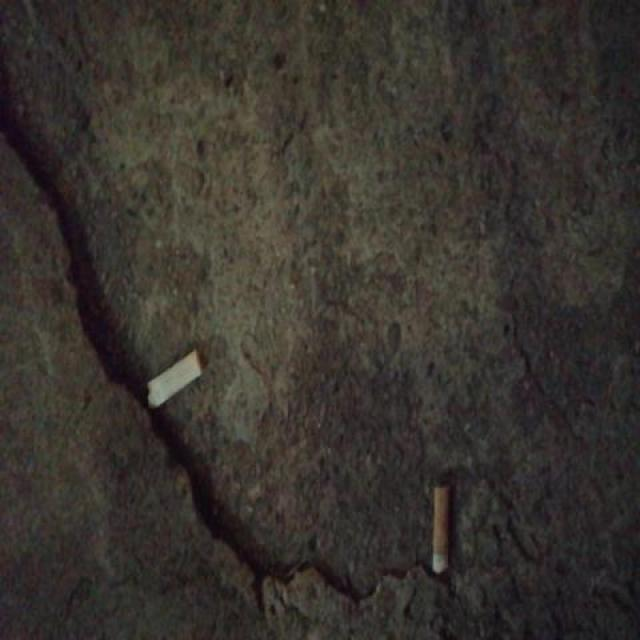non-organic waste: (143, 346, 204, 415), (427, 480, 453, 580)
